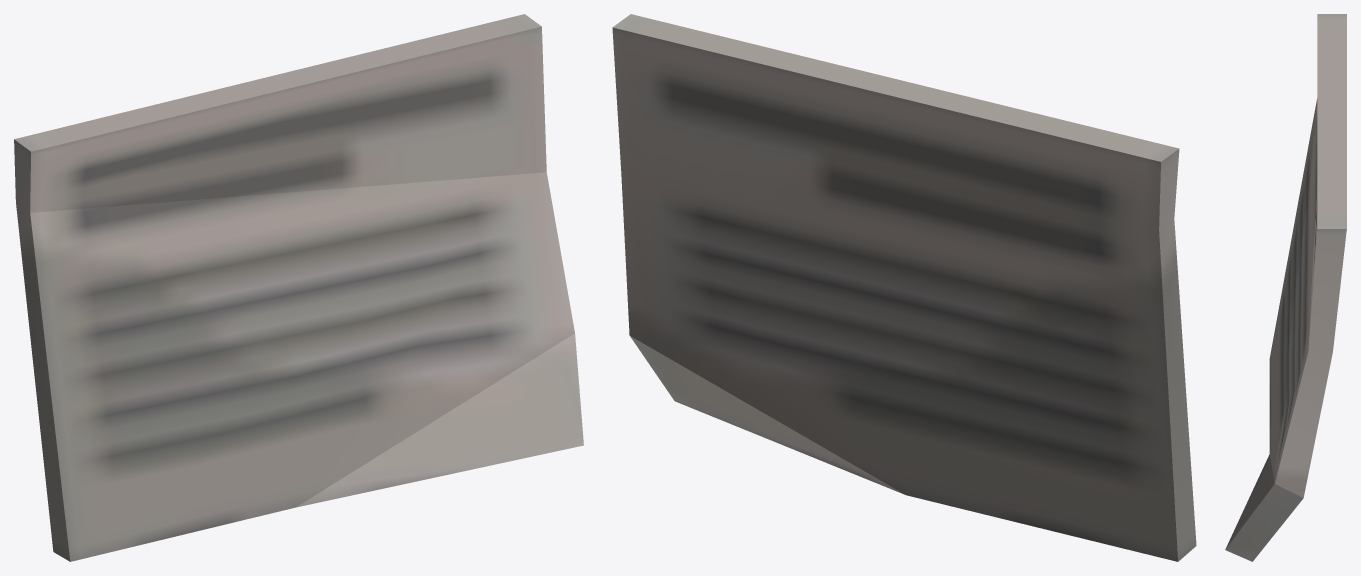
File: SM_Prop_Poster_05.obj
3 renders of one model, left to right at view 1: azimuth 30°, elevation 25°; view 2: azimuth 150°, elevation 25°; view 3: azimuth 270°, elevation 25°, orthographic. The views are drawn at different scales.
Parts seen in each view (by area): view 1: SM_Prop_Poster_05_0; view 2: SM_Prop_Poster_05_0; view 3: SM_Prop_Poster_05_0.
Boxes of the visible parts, <box> form: SM_Prop_Poster_05_0: <box>14,14,583,561</box>; SM_Prop_Poster_05_0: <box>612,14,1196,561</box>; SM_Prop_Poster_05_0: <box>1225,14,1346,561</box>.
Size of the model in its own units: 0.2479 by 0.1804 by 0.0582.
Materials: 1 (1 with a texture image).
